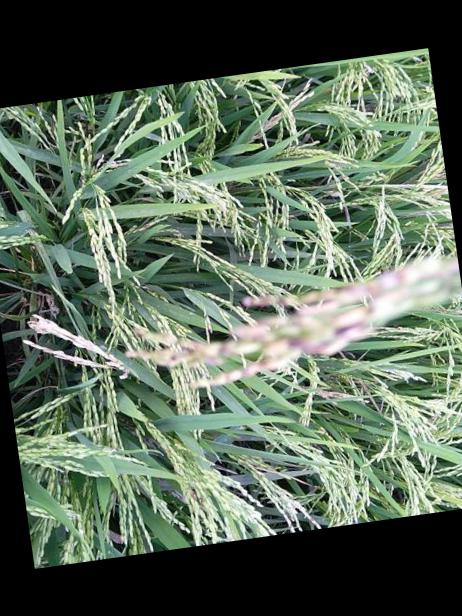Panicle Blight: (132, 256, 459, 388)
